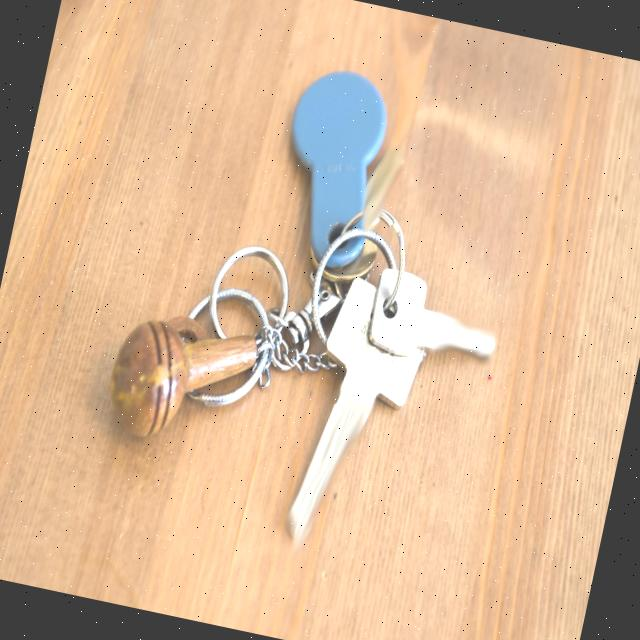Frontdoor keys: (282, 272, 440, 566), (363, 266, 518, 372)
